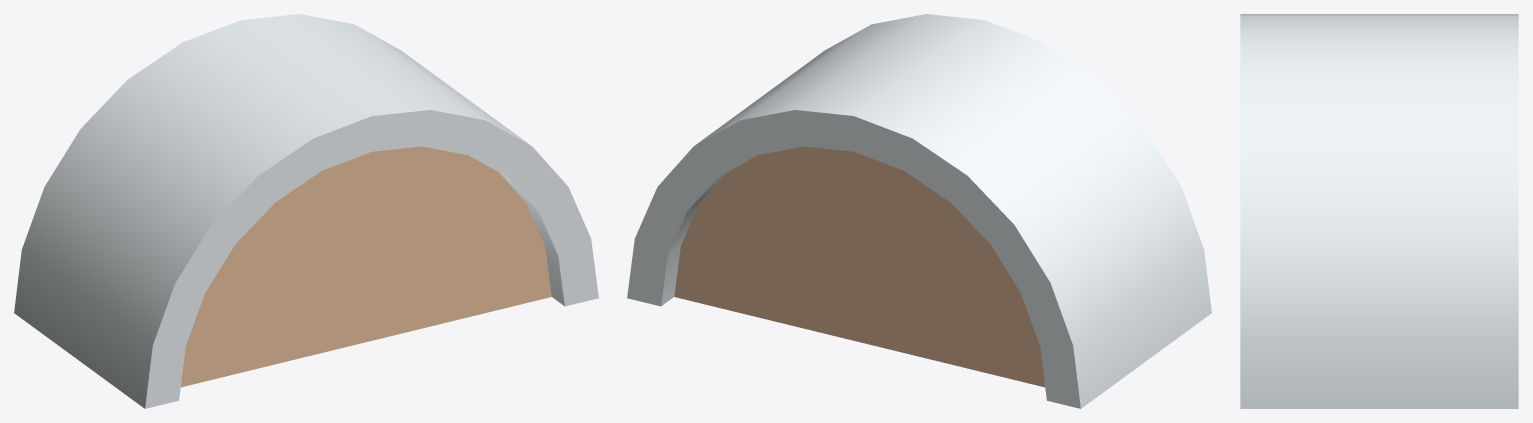
3 renders of one model, left to right at view 1: azimuth 30°, elevation 25°; view 2: azimuth 150°, elevation 25°; view 3: azimuth 270°, elevation 25°, orthographic. The views are drawn at different scales.
Visible parts, largest first — view 1: blockSnowCurve; view 2: blockSnowCurve; view 3: blockSnowCurve.
Part boxes in pixels (x1=…): blockSnowCurve: x1=14, y1=14, x2=598, y2=408; blockSnowCurve: x1=627, y1=14, x2=1211, y2=408; blockSnowCurve: x1=1240, y1=14, x2=1518, y2=408.
Size of the model in its own units: 2 by 1 by 1.
